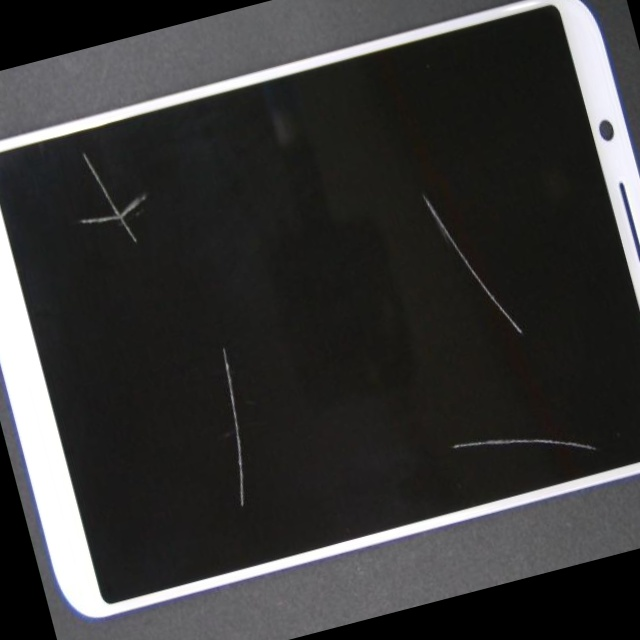scratch: (58, 70, 367, 577), (341, 178, 640, 603), (292, 215, 640, 503), (0, 66, 158, 238)
